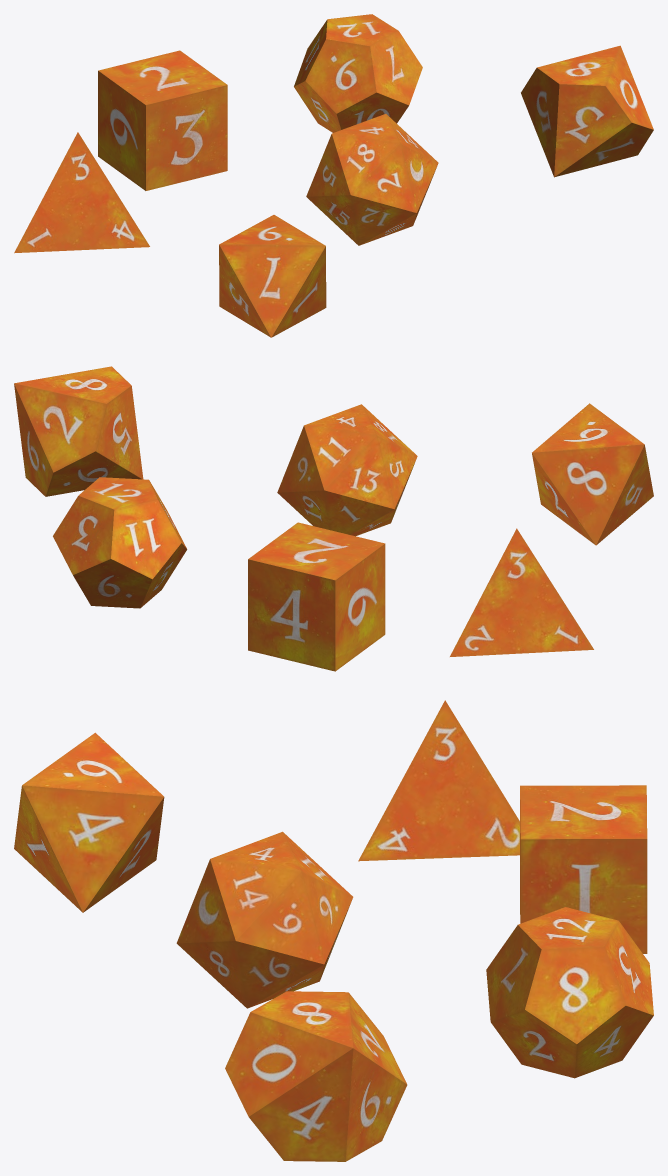
The model's file is dice.glb.
3 views of the same model, one above another, from view 1: azimuth 30°, elevation 25°; view 2: azimuth 150°, elevation 25°; view 3: azimuth 270°, elevation 25° (orthographic). The views are drawn at different scales.
Visible parts, largest first — view 1: LP.060, LP.059, LP.027, LP.058, LP.061, LP.023; view 2: LP.060, LP.059, LP.058, LP.027, LP.061, LP.023; view 3: LP.059, LP.058, LP.027, LP.061, LP.060, LP.023.
Boxes of the visible parts, box(x1,y1,x2,y2) form: LP.060: box(98, 50, 227, 190); LP.059: box(521, 45, 653, 177); LP.027: box(306, 114, 438, 245); LP.058: box(294, 14, 422, 132); LP.061: box(219, 215, 326, 337); LP.023: box(14, 132, 149, 253); LP.060: box(248, 522, 385, 671); LP.059: box(14, 366, 143, 496); LP.058: box(53, 477, 187, 608); LP.027: box(277, 404, 417, 536); LP.061: box(532, 403, 653, 545); LP.023: box(450, 528, 593, 656); LP.059: box(225, 991, 407, 1161); LP.058: box(486, 907, 653, 1078); LP.027: box(176, 831, 353, 1008); LP.061: box(14, 732, 164, 912); LP.060: box(520, 785, 647, 953); LP.023: box(358, 700, 519, 861).
Bounding box in the file's own units: 6.16 × 1.09 × 4.43.
1 material, 1 textured.
